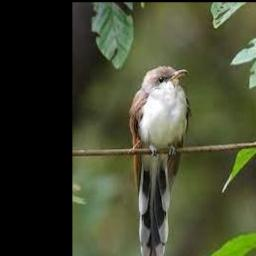Cuckoo: (129, 66, 192, 256)
